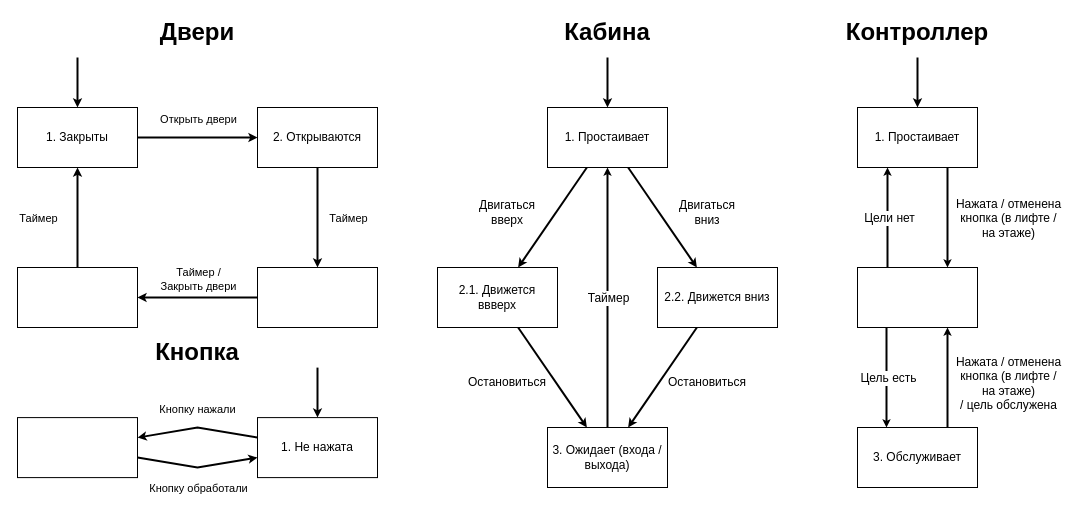
Image size: 1078x512. Some labels were removed from this diagram. The shapes that lost their labels are listed below. From the top down, each one's box as (x1, y1, x2, y2) in pixels, then its label:
(16, 266, 138, 328): 4. Закрываются
(256, 266, 378, 328): 3. Открыты
(856, 266, 978, 328): 2. Обновляет вектор активированных кнопок и цель
(16, 417, 138, 478): 2. Нажата
